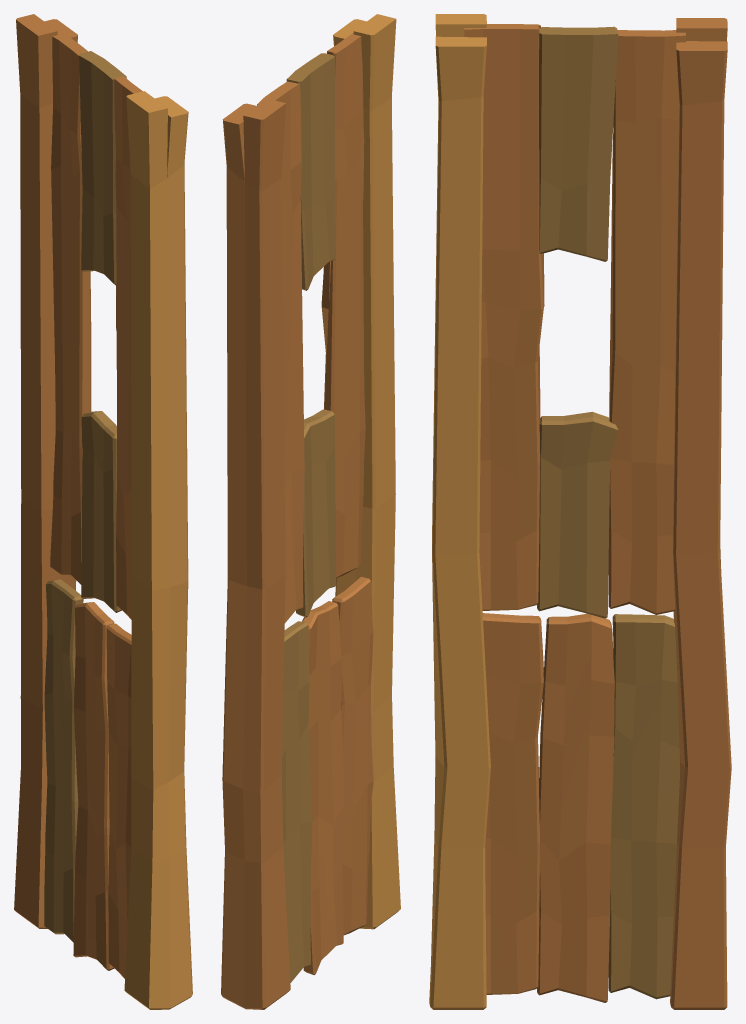
Rendered from Beach_House_Side_02.fbx.
3 views of the same model, side by side, from view 1: azimuth 30°, elevation 25°; view 2: azimuth 150°, elevation 25°; view 3: azimuth 270°, elevation 25° (orthographic). The views are drawn at different scales.
Parts seen in each view (by area): view 1: Beach_House_Side_02; view 2: Beach_House_Side_02; view 3: Beach_House_Side_02.
Boxes of the visible parts, box(x1,y1,x2,y2) form: Beach_House_Side_02: box(14, 14, 192, 1009); Beach_House_Side_02: box(221, 14, 400, 1009); Beach_House_Side_02: box(429, 14, 731, 1009).
Bounding box in the file's own units: 0.6575 × 12.48 × 3.48.
